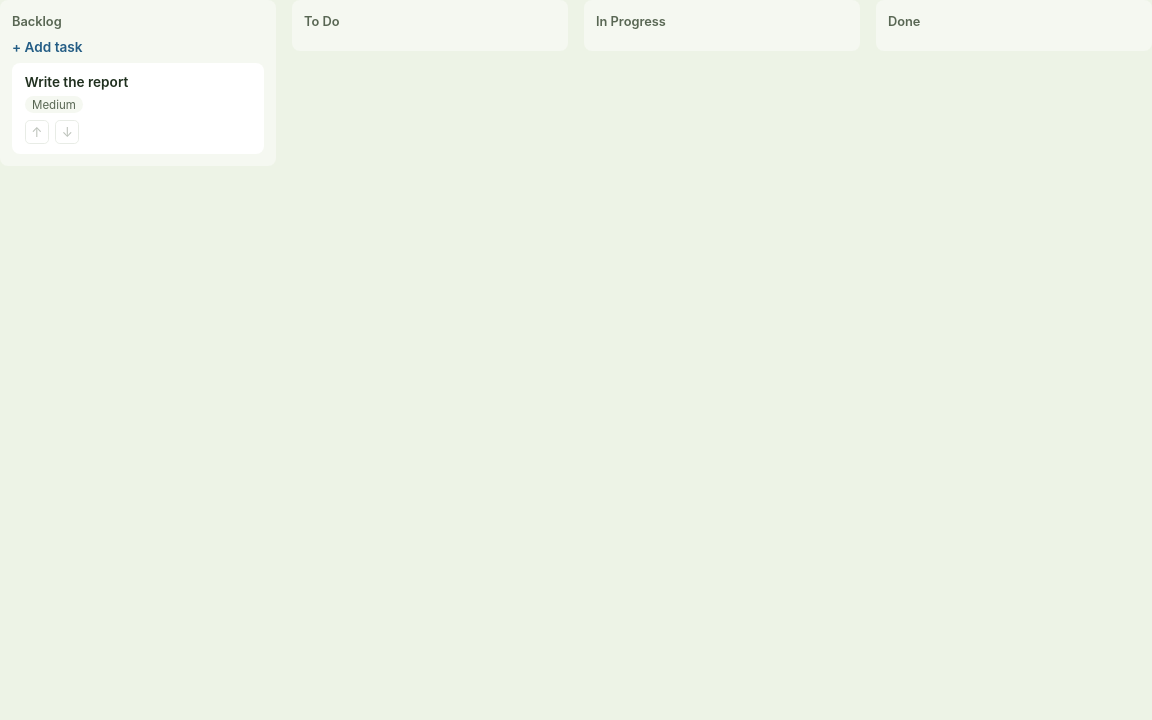
Test: TaskBoard › disables "Start focus" when canStartFocus is false
Click the text "Write the report": (77, 82) [25,74,128,90]
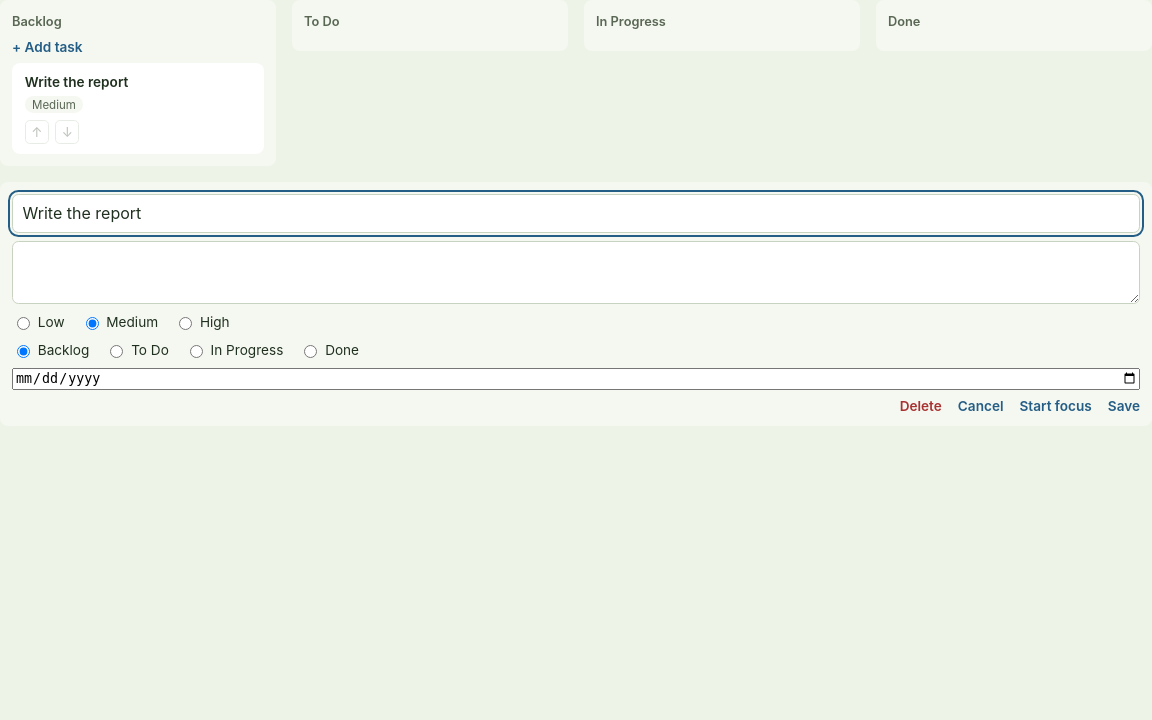
Expected: the button "Start focus" is disabled, [1020,398,1092,414]
